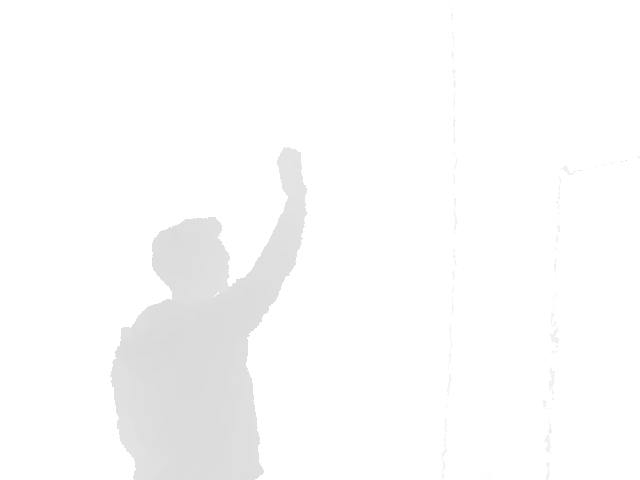hand: (275, 145, 309, 202)
head: (150, 216, 232, 303)
person: (110, 145, 309, 479)
